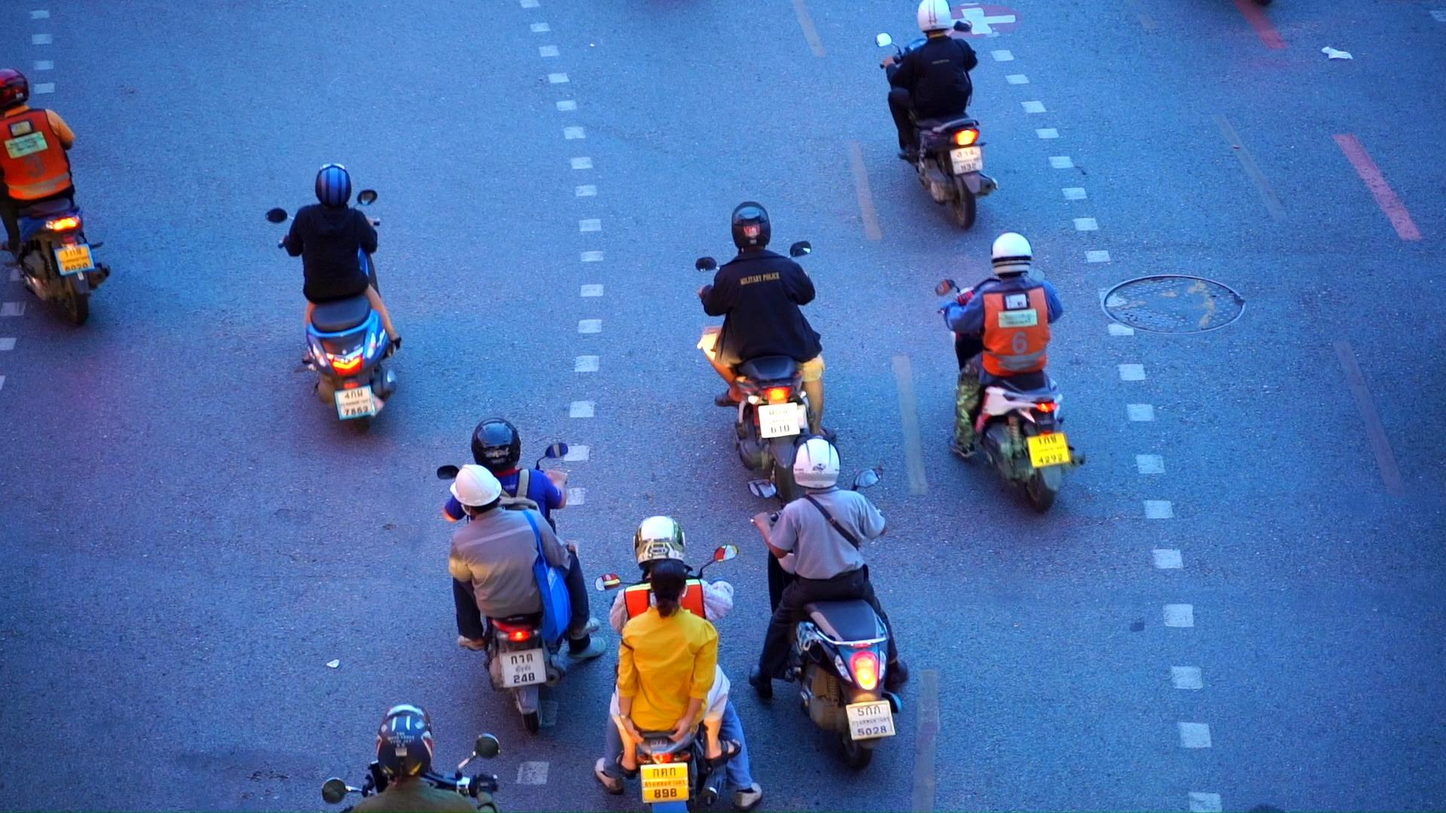driver: (746, 435, 908, 772), (437, 417, 607, 733), (594, 515, 764, 813), (695, 200, 836, 508), (934, 232, 1087, 513), (265, 162, 402, 433), (874, 0, 1000, 230), (0, 68, 111, 326), (323, 703, 501, 813)
helmet: (375, 703, 435, 783), (450, 464, 503, 525), (633, 516, 687, 572), (471, 417, 522, 473), (791, 434, 841, 490), (731, 200, 771, 256), (991, 232, 1032, 278), (315, 163, 351, 208), (0, 68, 30, 114), (918, 0, 952, 37)
no-helmet: (650, 560, 688, 618)
